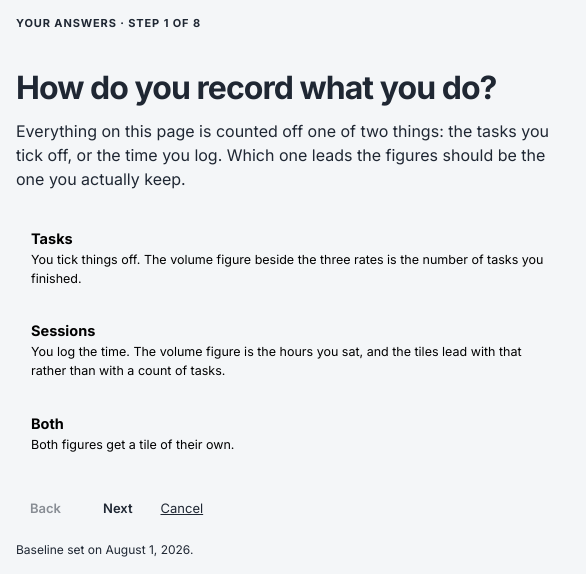
Test: the analytics question phase › opens on the answers already given when it is an edit
Check: the text "Your answers · Step 1 of 8" is shown, box [16, 16, 201, 30]
Check: the button "Cancel" is shown, box [160, 500, 203, 516]
Click the button "Next": (118, 508) [89, 490, 146, 526]
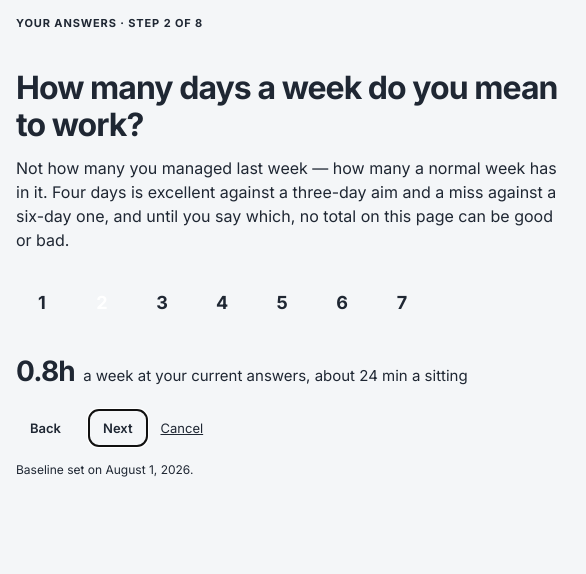
Click the button "Next": (118, 428) [89, 410, 146, 446]
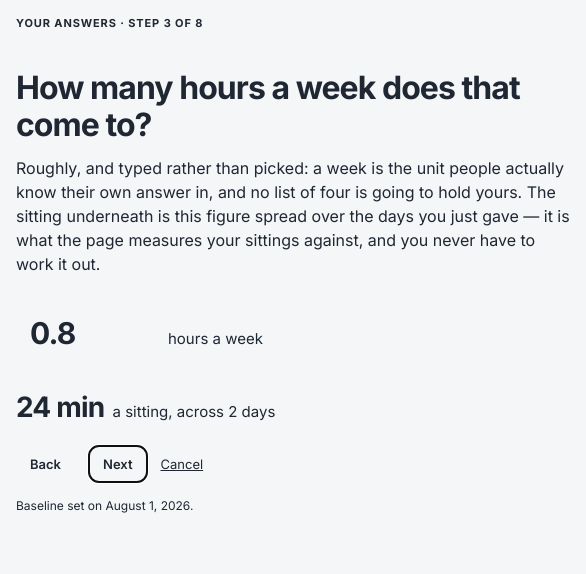
Check: the number field named "hours a week" holds "0.8", box [16, 302, 156, 364]
